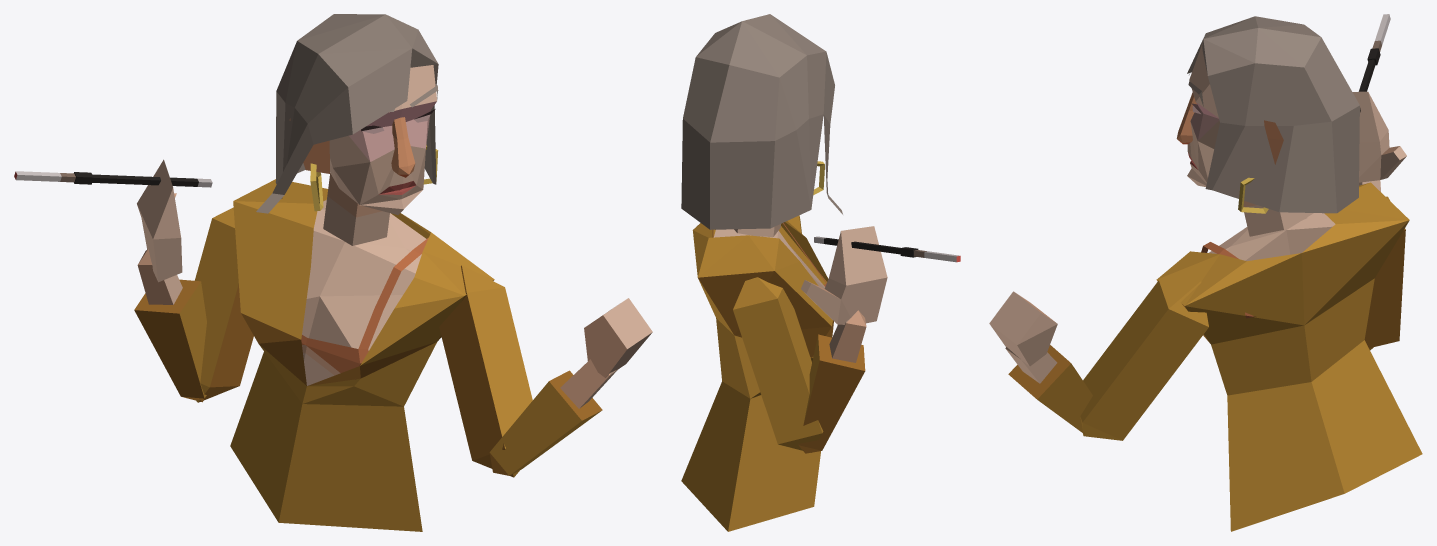
The model's file is Character02.fbx.
The picture shows the model from 3 angles, left to right: view 1: azimuth 30°, elevation 25°; view 2: azimuth 150°, elevation 25°; view 3: azimuth 270°, elevation 25°; orthographic projection. The views are drawn at different scales.
Visible parts, largest first — view 1: Mesh_Character02; view 2: Mesh_Character02; view 3: Mesh_Character02.
Part boxes in pixels (x1=…): Mesh_Character02: x1=14, y1=14, x2=652, y2=531; Mesh_Character02: x1=681, y1=14, x2=960, y2=531; Mesh_Character02: x1=989, y1=14, x2=1422, y2=531.
Bounding box in the file's own units: 10.07 × 8.81 × 11.06.
